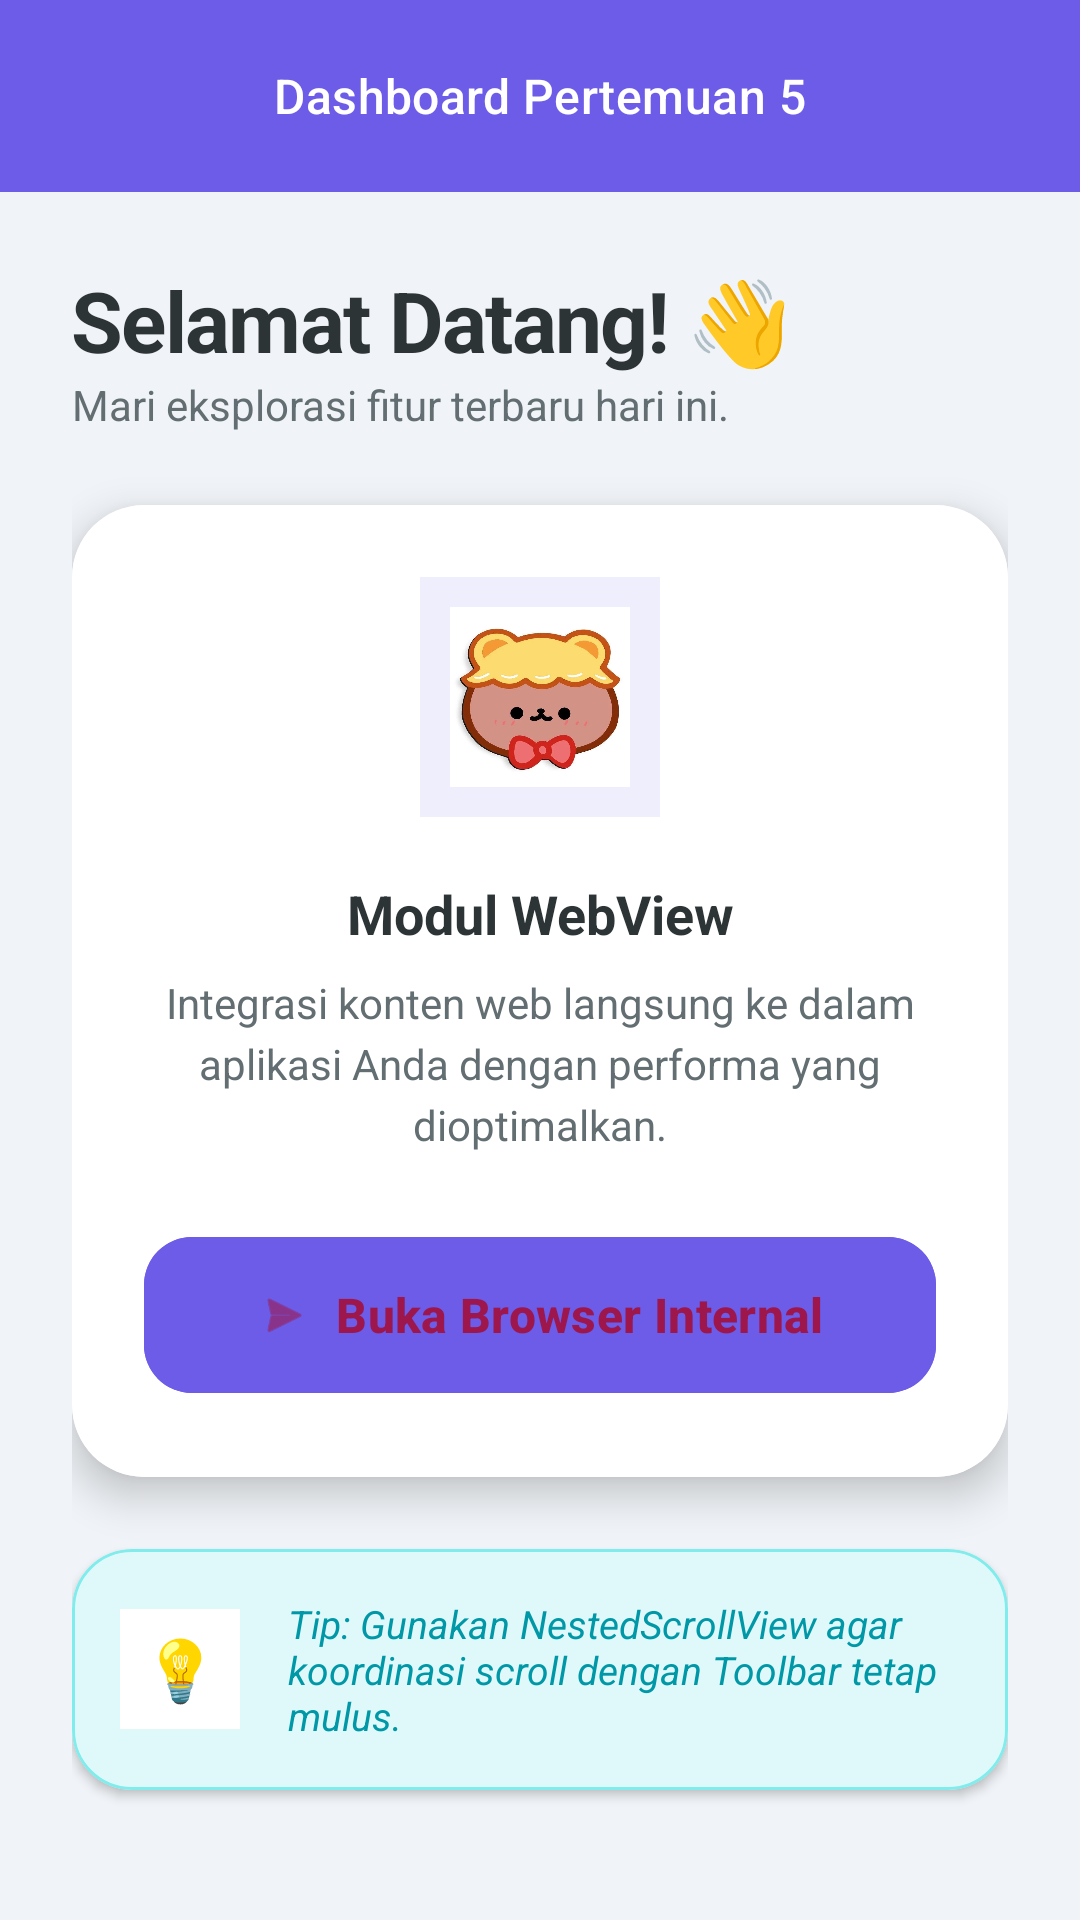

Icon click points for this 1080*1920 phone screenshot, format point (x, y):
gambar: point (539, 699)
